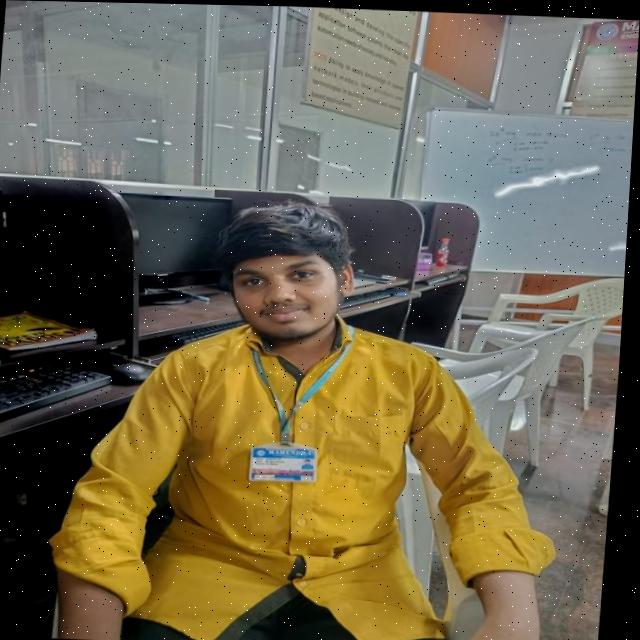id_card: (233, 334, 356, 492)
